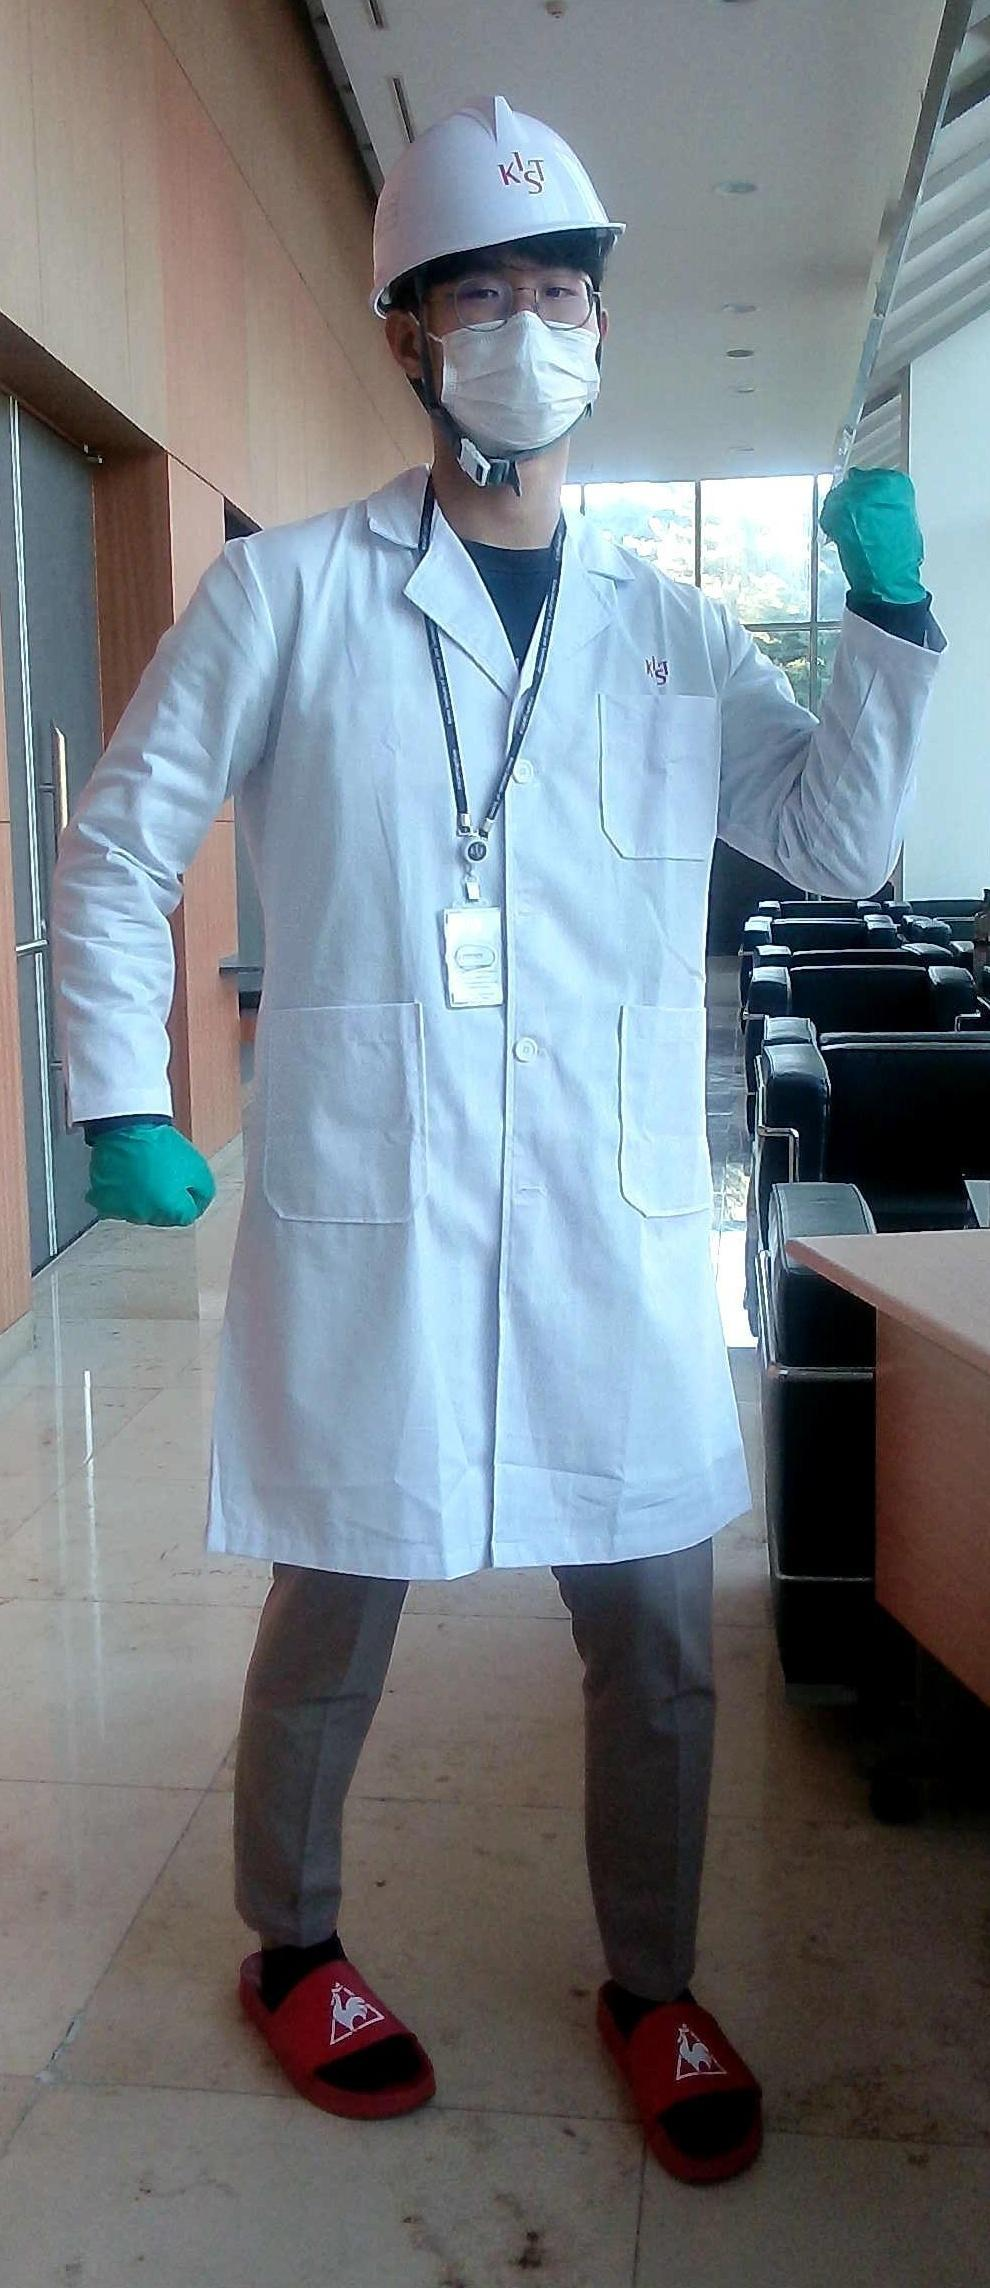lab_coat: (202, 525, 765, 1598)
